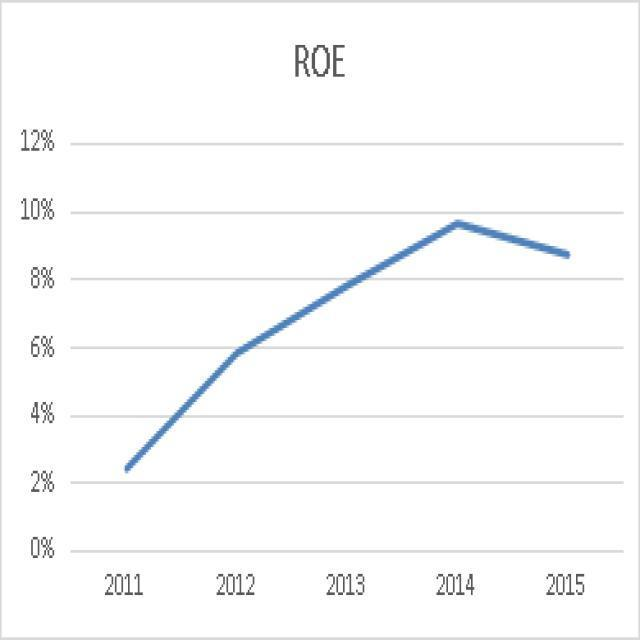axis: (59, 110, 79, 565), (60, 545, 634, 560)
line: (119, 214, 576, 477)
